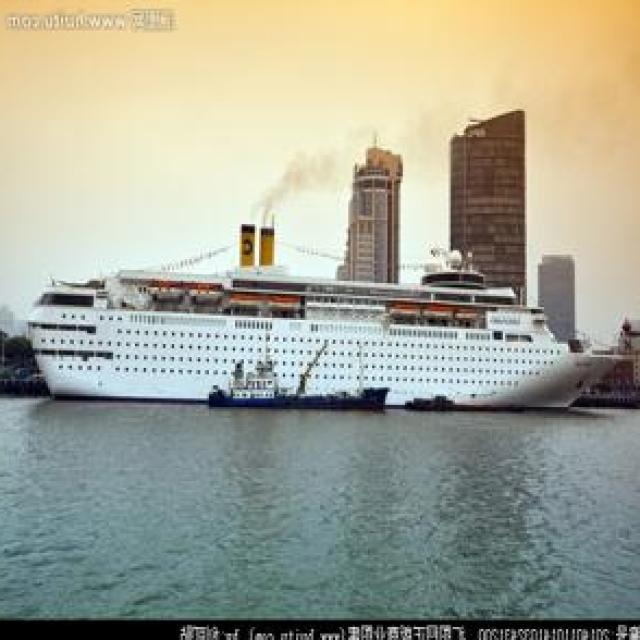passenger ship: (35, 237, 631, 416)
